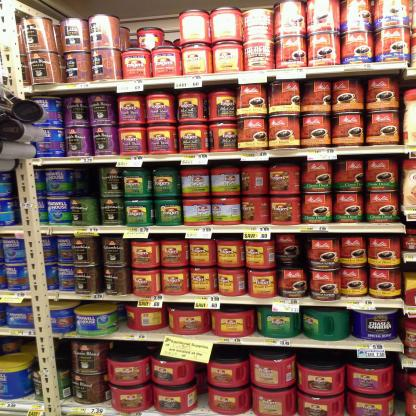empty_space: (72, 167, 100, 201)
